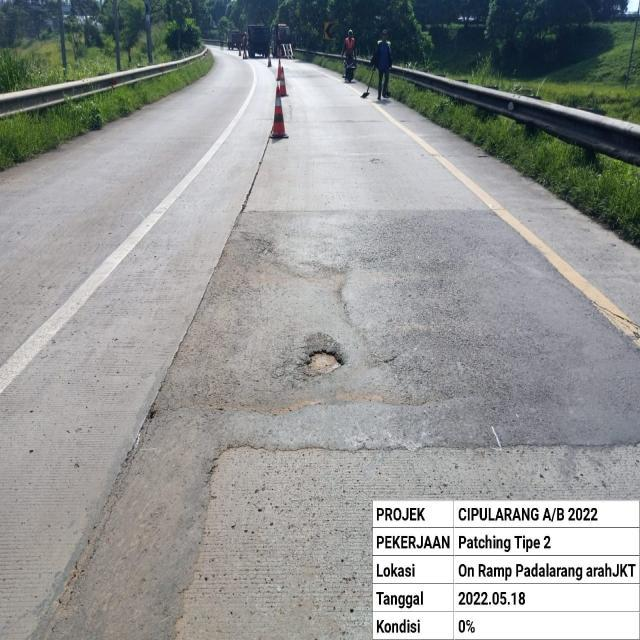Buraco: (292, 348, 348, 379)
